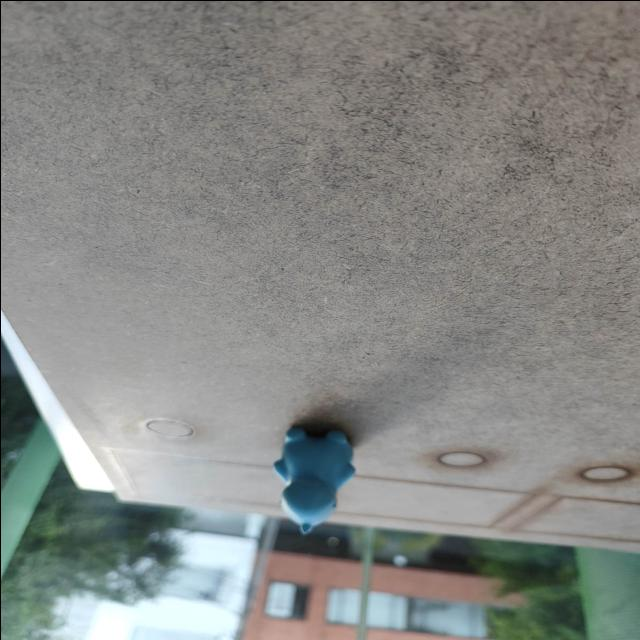DINO: (265, 420, 366, 545)
